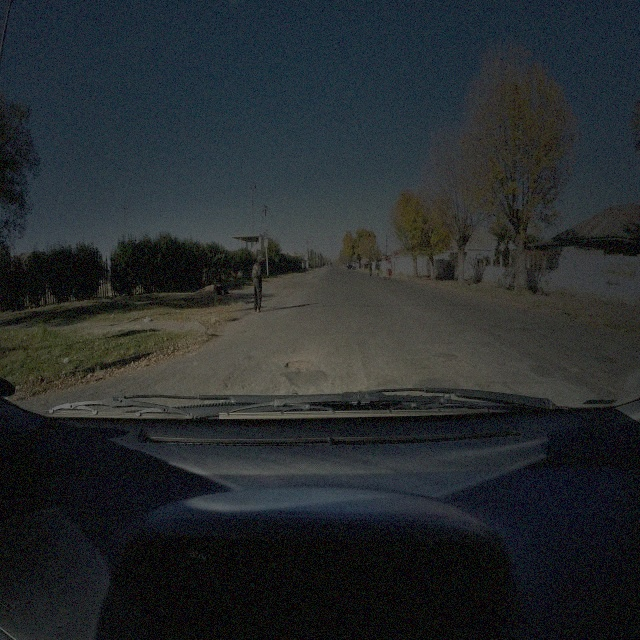pothole: (285, 358, 314, 374)
